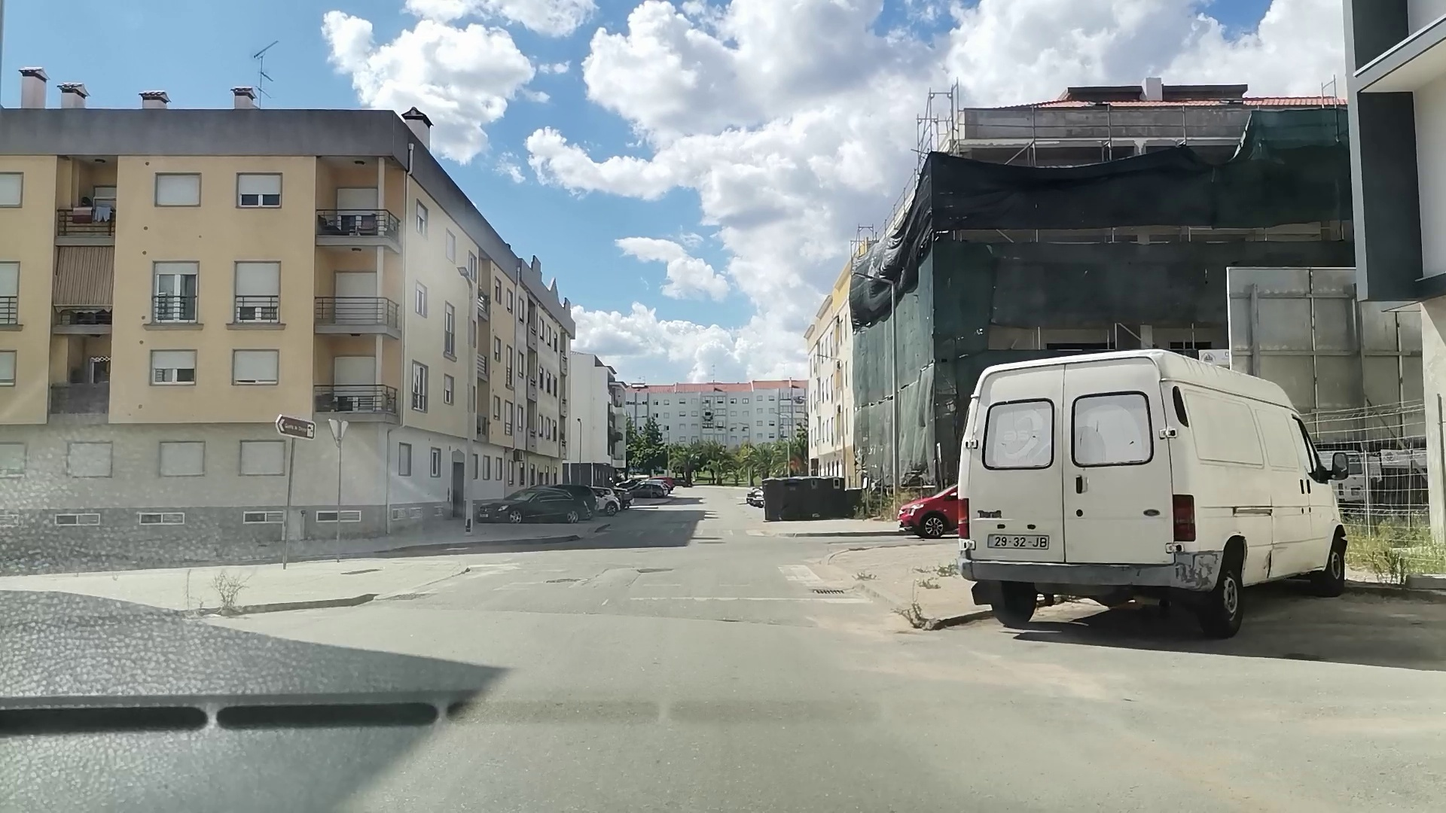Stairs: (418, 565, 831, 590)
